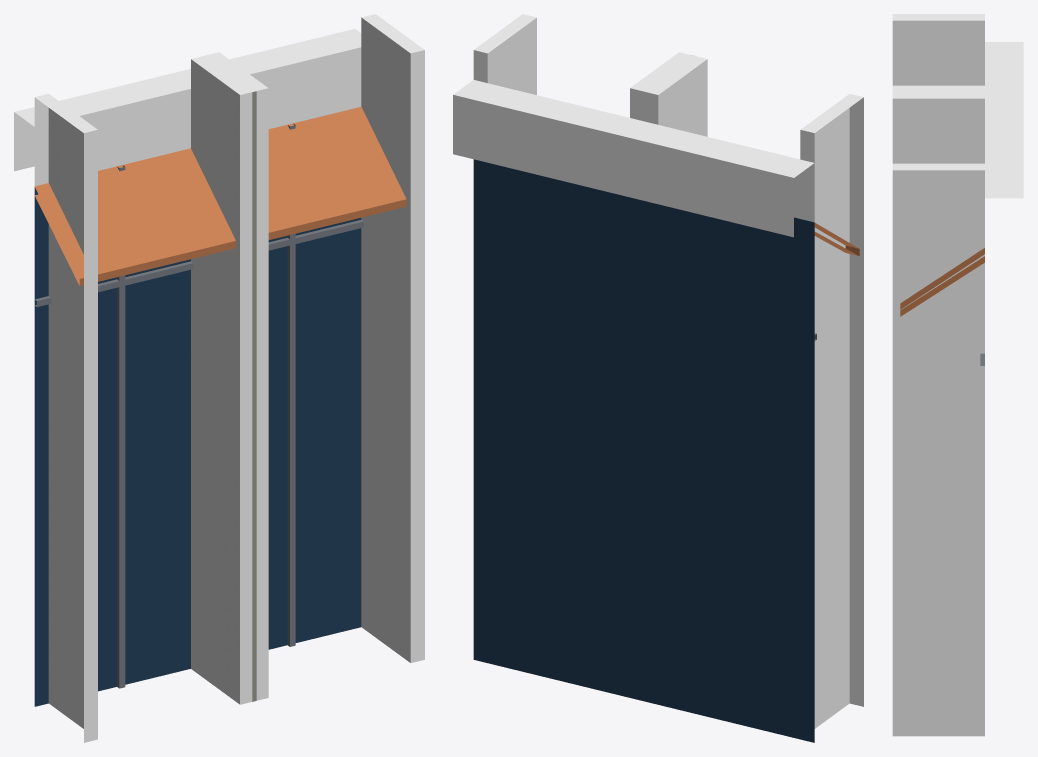
Rendered from top-w1_close.fbx.
The picture shows the model from 3 angles, left to right: view 1: azimuth 30°, elevation 25°; view 2: azimuth 150°, elevation 25°; view 3: azimuth 270°, elevation 25°; orthographic projection. The views are drawn at different scales.
Visible parts, largest first — view 1: a2002/600/top-w1_close; view 2: a2002/600/top-w1_close; view 3: a2002/600/top-w1_close.
Boxes of the visible parts, x1=… form: a2002/600/top-w1_close: x1=14, y1=14, x2=424, y2=742; a2002/600/top-w1_close: x1=453, y1=14, x2=863, y2=742; a2002/600/top-w1_close: x1=892, y1=14, x2=1023, y2=736.
Bounding box in the file's own units: 2.4 × 4.1 × 0.851.
